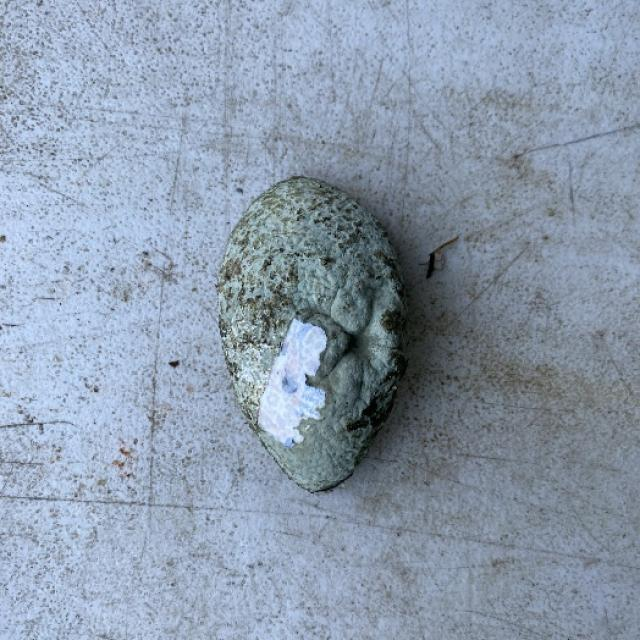organik: (209, 172, 415, 495)
